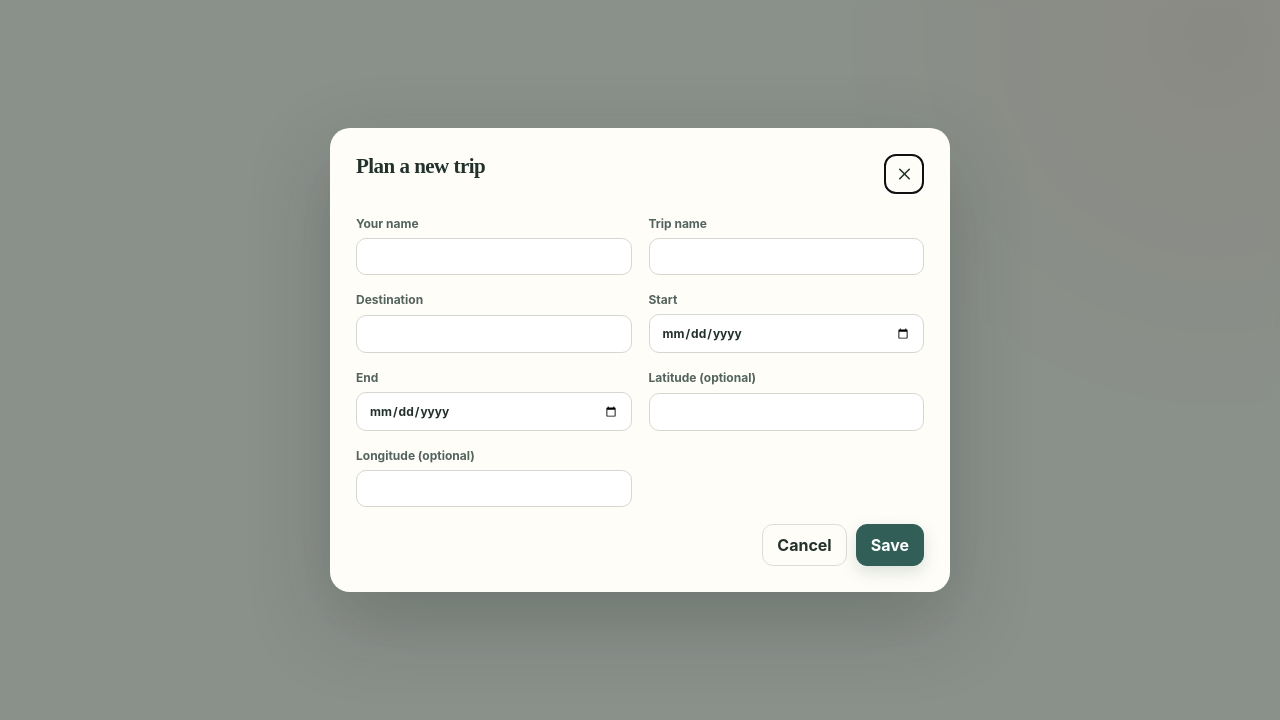
CreateTripDialog › shows an error when creating the trip fails
In the field labelled "Your name": {"x": 494, "y": 256} [356,238,632,275], type "Ada"
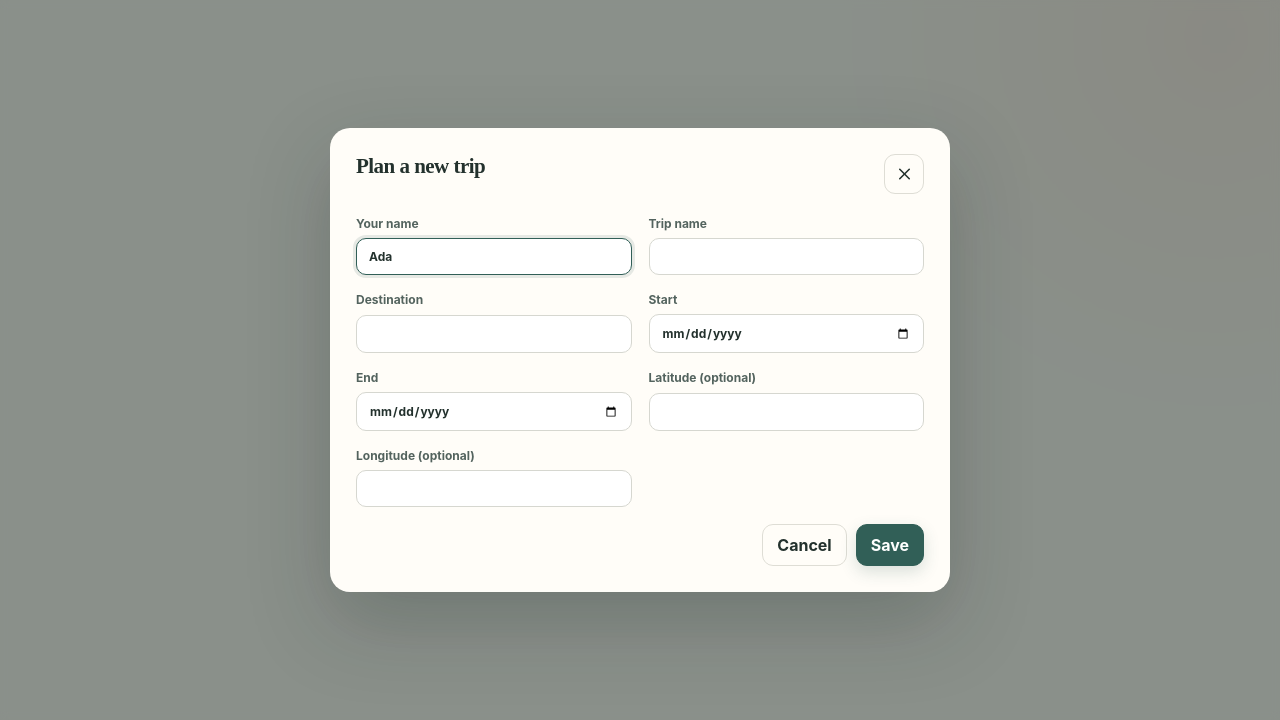
In the field labelled "Trip name": {"x": 786, "y": 256} [648,238,924,275], type "Lisbon"
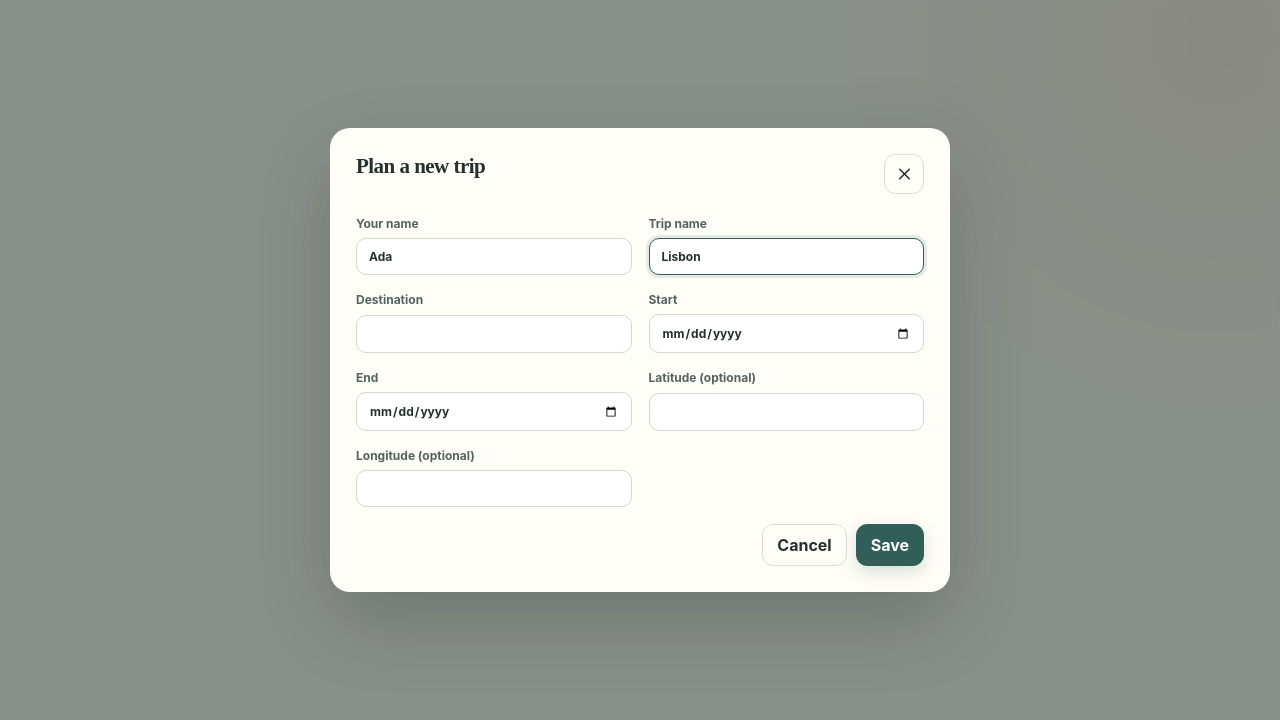
In the field labelled "Destination": {"x": 494, "y": 334} [356,315,632,353], type "Portugal"
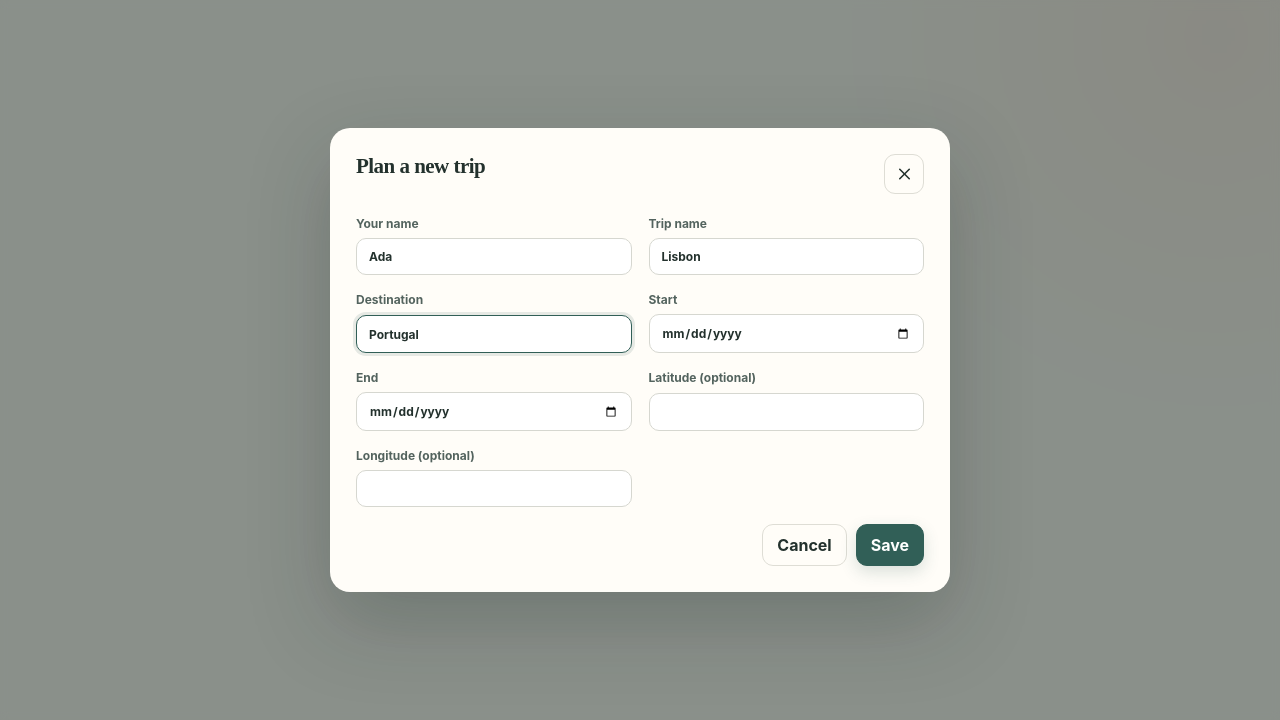
In the date field labelled "Start": {"x": 786, "y": 334} [648,314,924,353], type "2026-09-10"
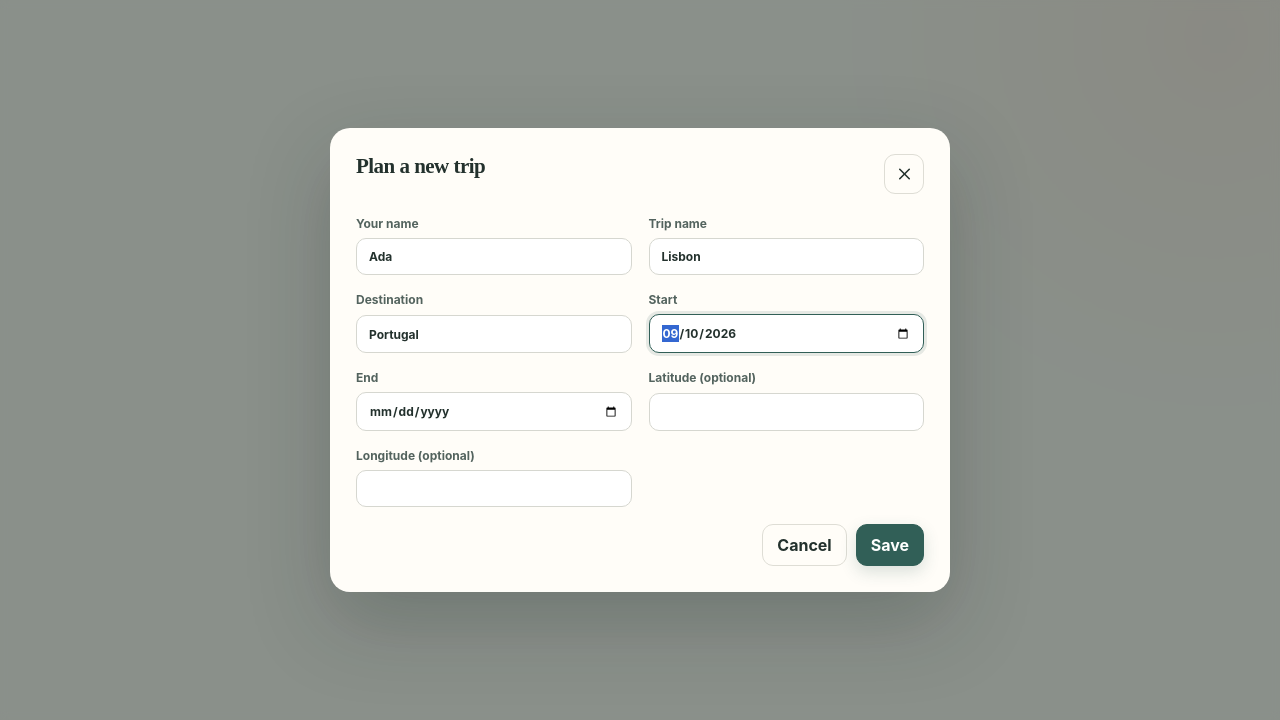
In the date field labelled "End": {"x": 494, "y": 412} [356,392,632,431], type "2026-09-14"
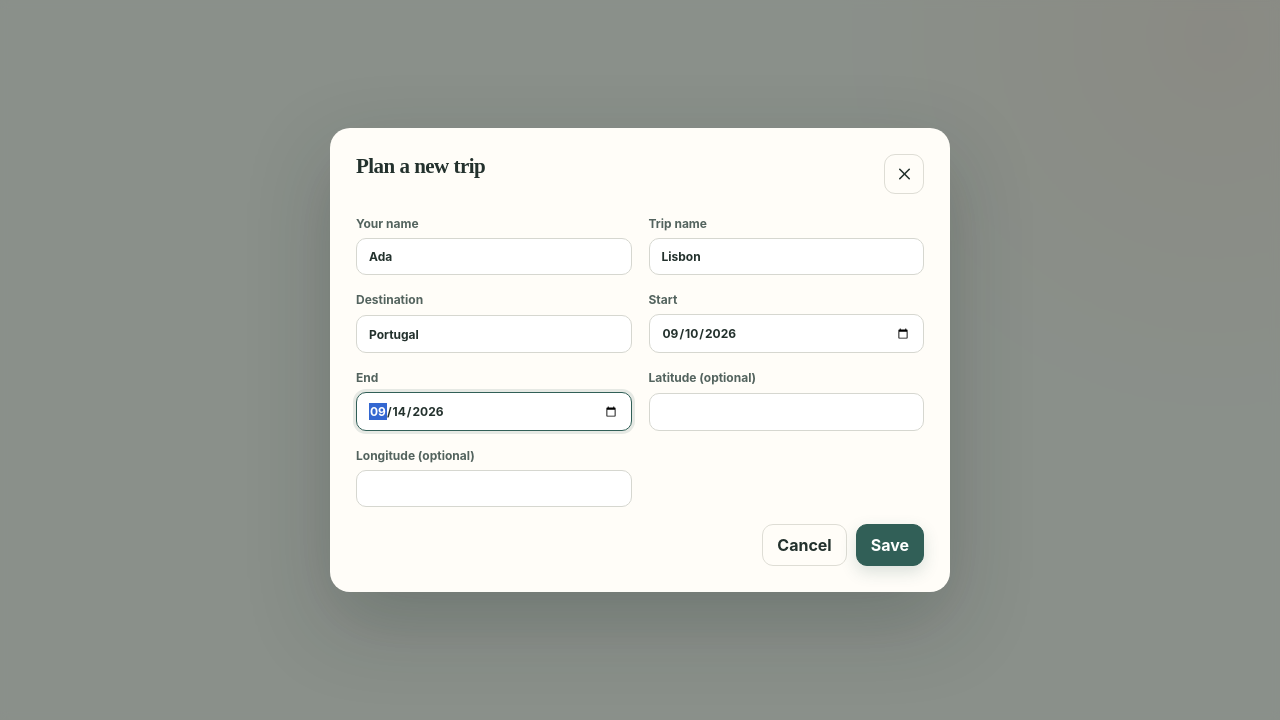
Click the button "Save": {"x": 890, "y": 545} [856,524,924,566]
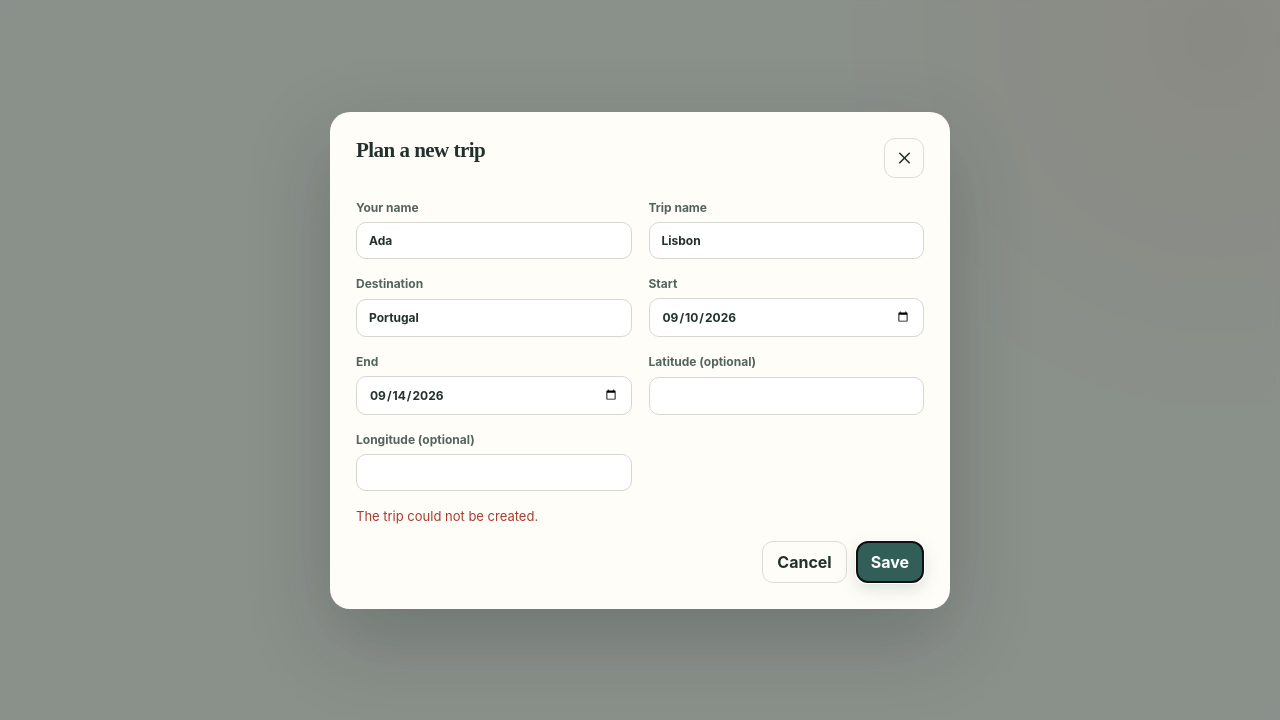
Now the text "The trip could not be created." is shown, box [356,508,538,524]
